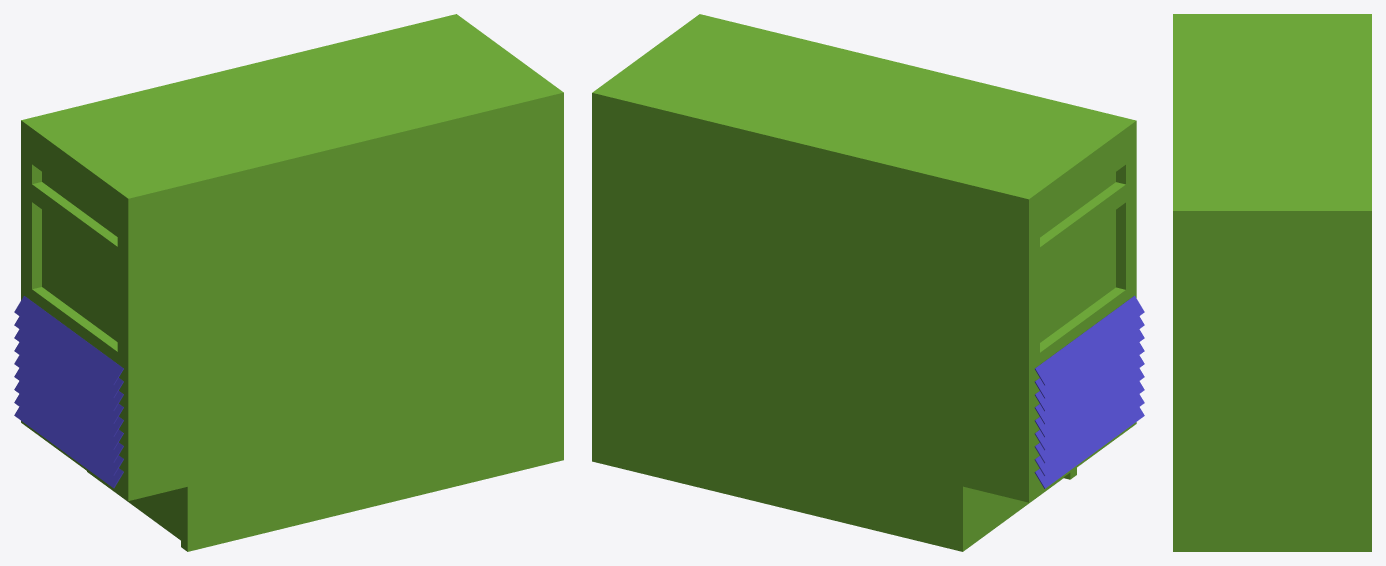
Rendered from edificio2.FBX.
3 renders of one model, left to right at view 1: azimuth 30°, elevation 25°; view 2: azimuth 150°, elevation 25°; view 3: azimuth 270°, elevation 25°, orthographic. The views are drawn at different scales.
Parts seen in each view (by area): view 1: Box001; view 2: Box001; view 3: Box001.
Part boxes in pixels (left/top/right/bottom): Box001: left=14, top=14, right=563, bottom=551; Box001: left=592, top=14, right=1144, bottom=551; Box001: left=1173, top=14, right=1371, bottom=551.
Size of the model in its own units: 135 by 106 by 56.19.
